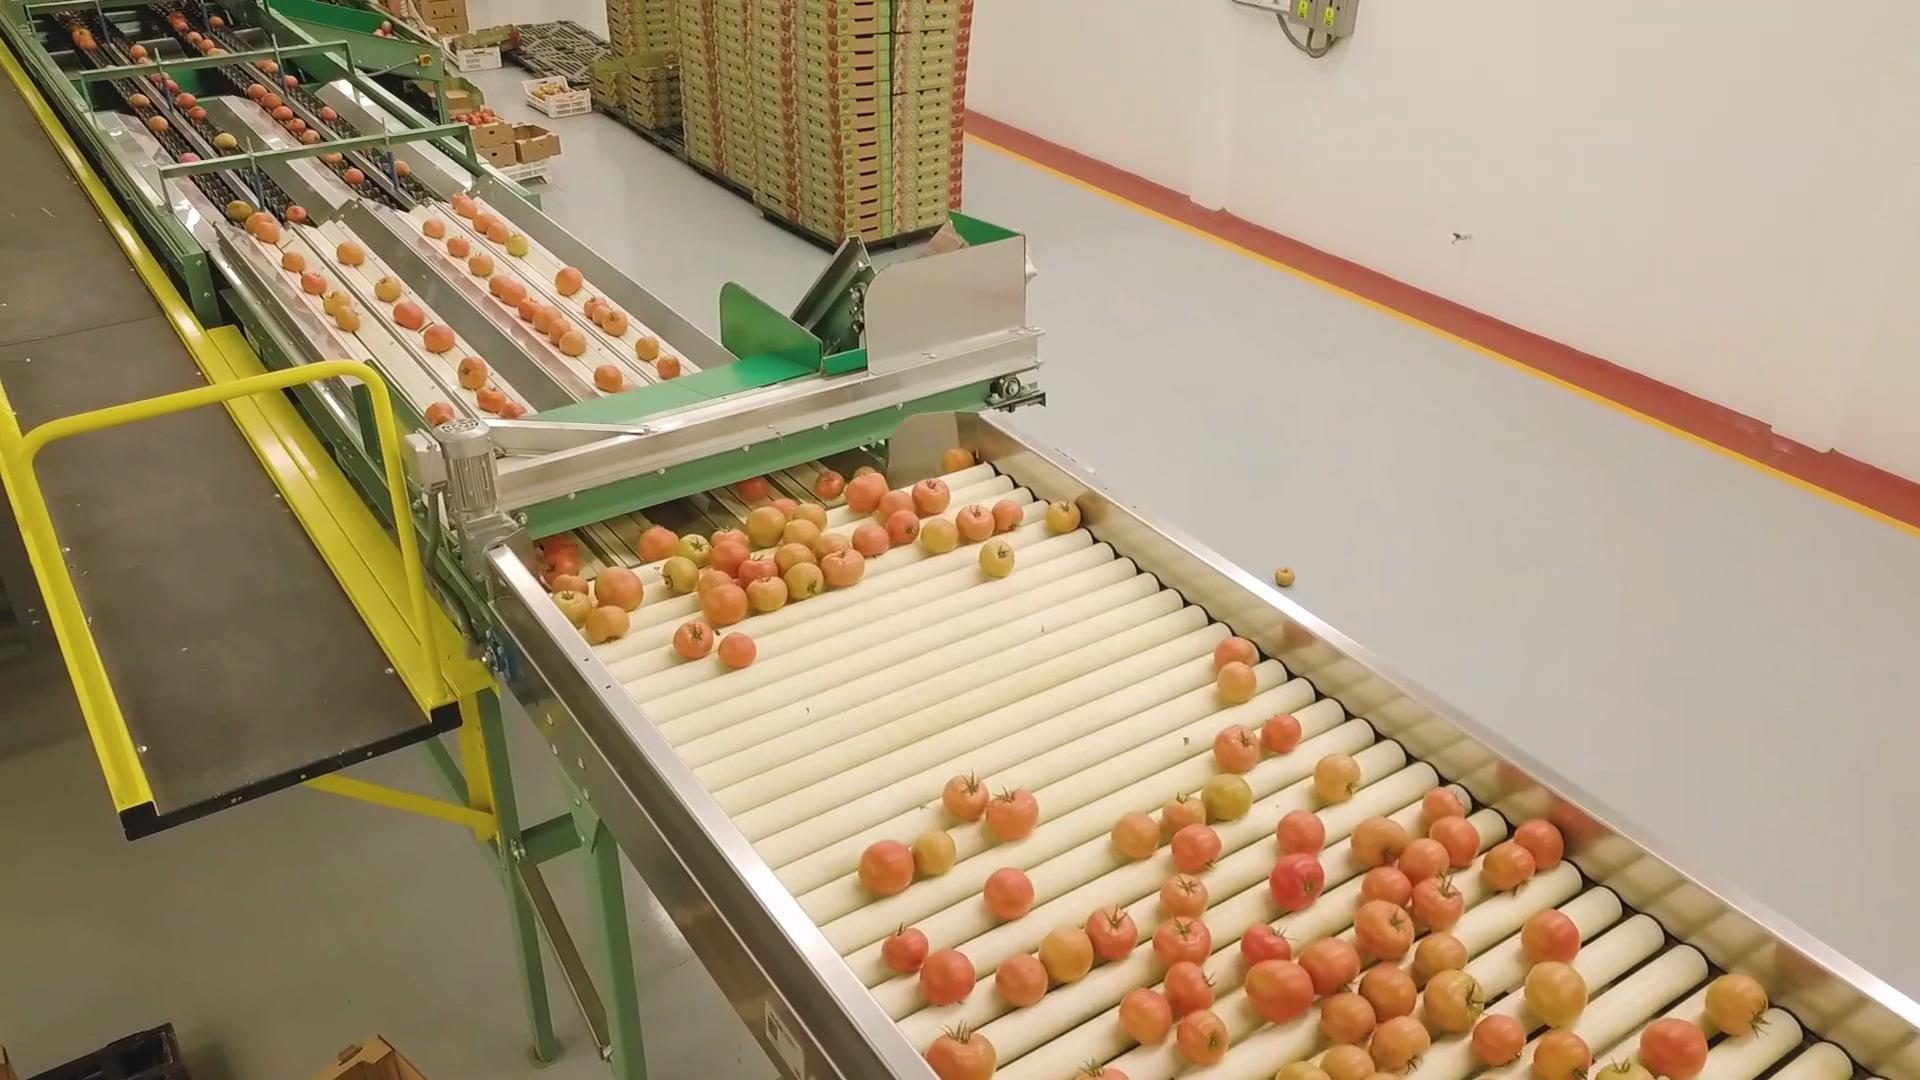Fruit: (923, 1025, 1010, 1080), (1237, 963, 1315, 1022), (1522, 961, 1594, 1025), (1704, 972, 1778, 1034), (1642, 1014, 1712, 1076), (1113, 988, 1179, 1051), (1176, 1010, 1244, 1071), (1266, 851, 1327, 916), (1352, 897, 1418, 957), (1030, 927, 1100, 982), (1081, 899, 1143, 960), (858, 836, 914, 901), (1147, 916, 1222, 964), (1422, 977, 1486, 1031), (997, 952, 1050, 1017), (1534, 1029, 1598, 1080), (916, 956, 980, 1007), (1204, 769, 1261, 824), (1374, 1013, 1429, 1069), (1171, 823, 1232, 874), (1151, 874, 1224, 916), (1481, 837, 1534, 894), (1160, 961, 1221, 1010), (1304, 942, 1367, 988), (1433, 815, 1489, 868), (986, 790, 1040, 843), (1320, 994, 1377, 1044), (1526, 910, 1578, 961), (878, 920, 928, 975), (982, 876, 1039, 922), (1309, 760, 1371, 802), (1523, 816, 1572, 869), (1213, 721, 1262, 773), (1415, 880, 1464, 931), (1316, 1040, 1381, 1079), (1284, 804, 1332, 856), (1473, 1023, 1527, 1068), (1362, 968, 1418, 1011), (1113, 811, 1158, 862), (1156, 786, 1208, 829), (1242, 923, 1296, 964), (1403, 829, 1449, 877), (1357, 865, 1414, 903), (1422, 781, 1470, 824), (947, 769, 985, 824), (696, 580, 752, 618), (1418, 936, 1470, 975), (914, 829, 956, 877), (1353, 824, 1404, 861), (1212, 661, 1258, 702), (744, 497, 786, 541), (600, 571, 647, 608), (589, 605, 638, 641), (670, 626, 720, 661), (749, 570, 789, 612), (1266, 713, 1303, 758), (634, 526, 684, 559), (819, 550, 869, 583), (852, 521, 897, 554), (959, 501, 997, 539), (737, 555, 779, 589), (978, 543, 1026, 574), (1220, 633, 1259, 669), (698, 570, 737, 605), (918, 476, 960, 509), (666, 553, 700, 592), (556, 593, 599, 624), (851, 475, 887, 509), (923, 520, 960, 553), (1073, 1060, 1131, 1080), (715, 549, 760, 572), (1594, 1063, 1656, 1080), (811, 529, 852, 554), (791, 567, 829, 593), (679, 537, 716, 563), (773, 543, 819, 564), (1274, 1063, 1331, 1080), (808, 468, 843, 496), (1056, 502, 1091, 530), (554, 574, 596, 596), (538, 553, 578, 576), (418, 404, 455, 429), (721, 641, 761, 663), (878, 493, 918, 516), (517, 297, 545, 328), (789, 517, 823, 542), (560, 330, 591, 357), (1000, 502, 1033, 527), (336, 240, 365, 268), (947, 443, 977, 469), (595, 365, 625, 392), (479, 386, 506, 414), (890, 513, 922, 537), (394, 301, 422, 327), (423, 326, 452, 351), (699, 568, 737, 587), (736, 480, 769, 501), (376, 272, 400, 301), (654, 353, 680, 378), (464, 357, 488, 385), (533, 306, 562, 328), (489, 225, 516, 248), (715, 531, 750, 547), (556, 269, 580, 293), (260, 224, 285, 245), (212, 132, 240, 150), (510, 235, 529, 261), (426, 216, 447, 239), (637, 338, 658, 360), (148, 111, 170, 132), (468, 258, 495, 276), (324, 290, 345, 311), (303, 272, 326, 291), (342, 313, 361, 335), (224, 202, 252, 218), (177, 149, 200, 167), (549, 320, 570, 340), (186, 104, 208, 123), (608, 310, 625, 334), (473, 208, 492, 229), (281, 255, 303, 272), (344, 169, 368, 185), (492, 281, 520, 294), (501, 286, 524, 302), (285, 204, 307, 220), (451, 241, 472, 257), (582, 294, 603, 310), (390, 160, 411, 175), (260, 92, 282, 107), (460, 199, 477, 218), (245, 212, 269, 225), (129, 92, 149, 108), (270, 105, 294, 119), (173, 91, 195, 104), (506, 405, 525, 421), (171, 20, 191, 34), (127, 45, 148, 58), (285, 74, 302, 90), (320, 107, 340, 120), (247, 83, 265, 96), (161, 79, 181, 91), (73, 29, 92, 41), (287, 117, 306, 129), (169, 8, 182, 24), (187, 30, 203, 44), (303, 131, 320, 142), (269, 58, 280, 75), (210, 17, 225, 28), (82, 40, 95, 51), (200, 41, 215, 51), (447, 194, 463, 203), (595, 306, 604, 322)
